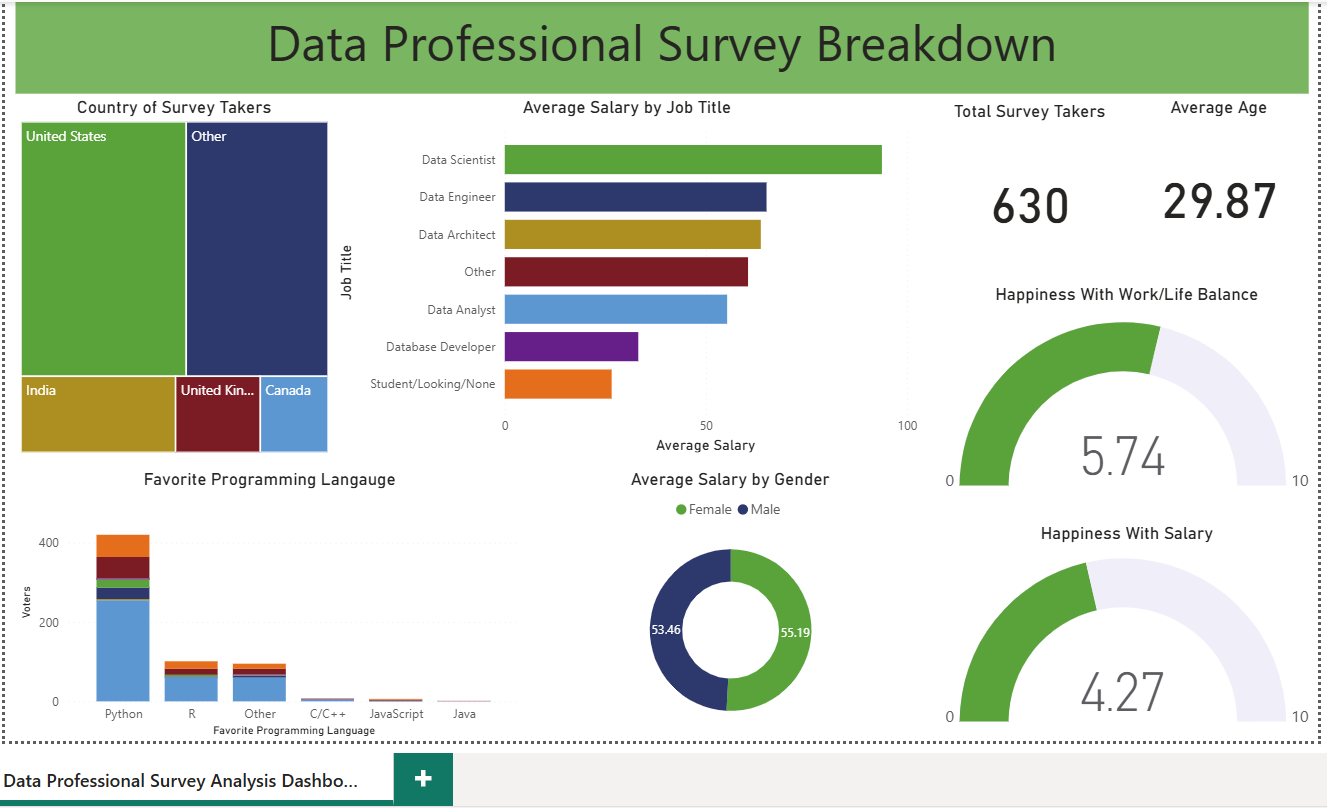

The dashboard page shown, as its layout file describes it:
{"tool":"powerbi","page":{"name":"Data Professional Survey Analysis Dashboard","canvas":[1280,720],"ordinal":0},"visuals":[{"type":"textbox","box":[9.7,0,1259.8,89.1],"z":0},{"type":"card","title":"Total Survey Takers","fields":{"Values":["CountNonNull(Data Professional Survey.Unique ID)"]},"box":[906.8,97.2,184.6,171.6],"z":1000},{"type":"card","title":"Average Age","fields":{"Values":["Avg(Data Professional Survey.Q10 - Current Age)"]},"box":[1096.2,92.3,173.3,171.6],"z":2000},{"type":"barChart","title":"Average Salary by Job Title","fields":{"Category":["Data Professional Survey.Q1 - Which Title Best Fits your Current Role?.1"],"Y":["Avg(Data Professional Survey.Average Salary)"],"Series":["Data Professional Survey.Q1 - Which Title Best Fits your Current Role?.1"]},"box":[319,92.3,574.8,351.4],"z":3000},{"type":"columnChart","title":"Favorite Programming Langauge","fields":{"Category":["Data Professional Survey.Q5 - Favorite Programming Language.1"],"Y":["CountNonNull(Data Professional Survey.Unique ID)"],"Series":["Data Professional Survey.Q1 - Which Title Best Fits your Current Role?.1"]},"box":[9.7,455,495.5,265.6],"z":4000},{"type":"treemap","title":"Country of Survey Takers","fields":{"Values":["CountNonNull(Data Professional Survey.Q11 - Which Country do you live in?.1)"],"Group":["Data Professional Survey.Q11 - Which Country do you live in?.1"]},"box":[9.7,92.3,309.3,351.4],"z":5000},{"type":"gauge","title":"Happiness With Work/Life Balance","fields":{"Y":["Avg(Data Professional Survey.Q6 - How Happy are you in your Current Position with the following? (Work/Life Balance))"],"MinValue":["Min(Data Professional Survey.Q6 - How Happy are you in your Current Position with the following? (Work/Life Balance))1"],"MaxValue":["Max(Data Professional Survey.Q6 - How Happy are you in your Current Position with the following? (Work/Life Balance))2"]},"box":[906.8,275.3,374,218.6],"z":6000},{"type":"gauge","title":"Happiness With Salary","fields":{"Y":["Avg(Data Professional Survey.Q6 - How Happy are you in your Current Position with the following? (Salary))"],"MinValue":["Min(Data Professional Survey.Q6 - How Happy are you in your Current Position with the following? (Salary))"],"MaxValue":["Max(Data Professional Survey.Q6 - How Happy are you in your Current Position with the following? (Salary))"]},"box":[906.8,506.8,374,213.7],"z":7000},{"type":"donutChart","title":"Average Salary by Gender","fields":{"Y":["Avg(Data Professional Survey.Average Salary)"],"Category":["Data Professional Survey.Q9 - Male/Female?"]},"box":[518.2,455,375.7,265.6],"z":8000}]}

Visuals, with their boxes in screenshot pixels (x1, y1, x2, y2):
textbox: {"x1": 13, "y1": 0, "x2": 1301, "y2": 91}
"Total Survey Takers" card: {"x1": 931, "y1": 99, "x2": 1119, "y2": 275}
"Average Age" card: {"x1": 1124, "y1": 94, "x2": 1301, "y2": 270}
"Average Salary by Job Title" barChart: {"x1": 330, "y1": 94, "x2": 917, "y2": 454}
"Favorite Programming Langauge" columnChart: {"x1": 13, "y1": 465, "x2": 520, "y2": 737}
"Country of Survey Takers" treemap: {"x1": 13, "y1": 94, "x2": 330, "y2": 454}
"Happiness With Work/Life Balance" gauge: {"x1": 931, "y1": 281, "x2": 1313, "y2": 505}
"Happiness With Salary" gauge: {"x1": 931, "y1": 518, "x2": 1313, "y2": 737}
"Average Salary by Gender" donutChart: {"x1": 533, "y1": 465, "x2": 917, "y2": 737}
